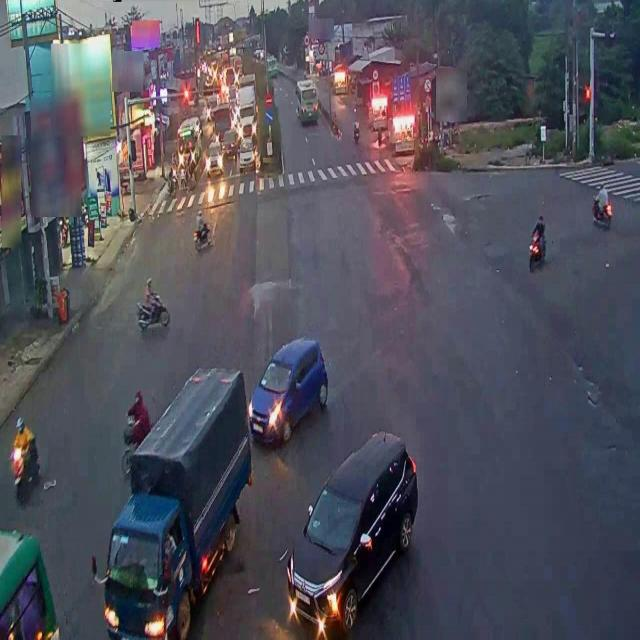car: (291, 430, 431, 640), (252, 336, 332, 442)
motorcycle: (7, 416, 39, 504), (136, 277, 170, 333), (193, 206, 211, 252)
truck: (96, 361, 250, 640)
